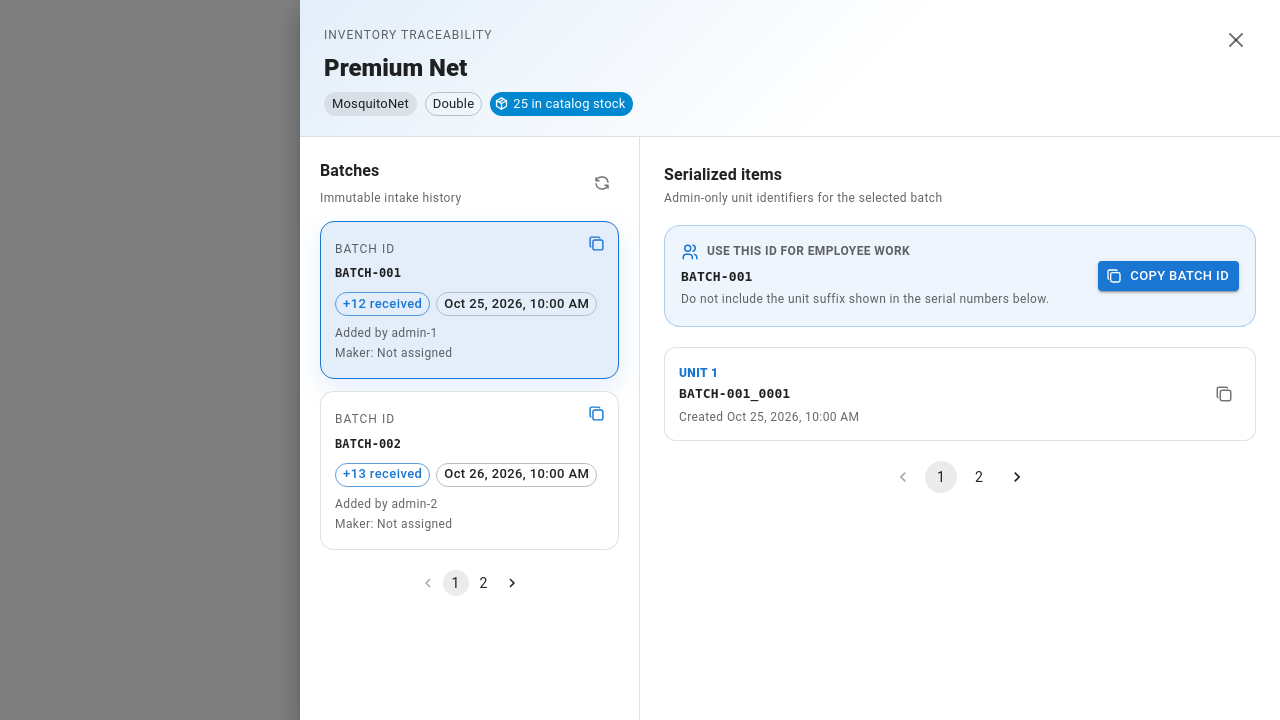
it: InventoryTraceability › announces clipboard permission failures without rejecting the action
Click the button named "Copy serial BATCH-001_0001" at x=1224, y=394, box [1207,377,1241,411]
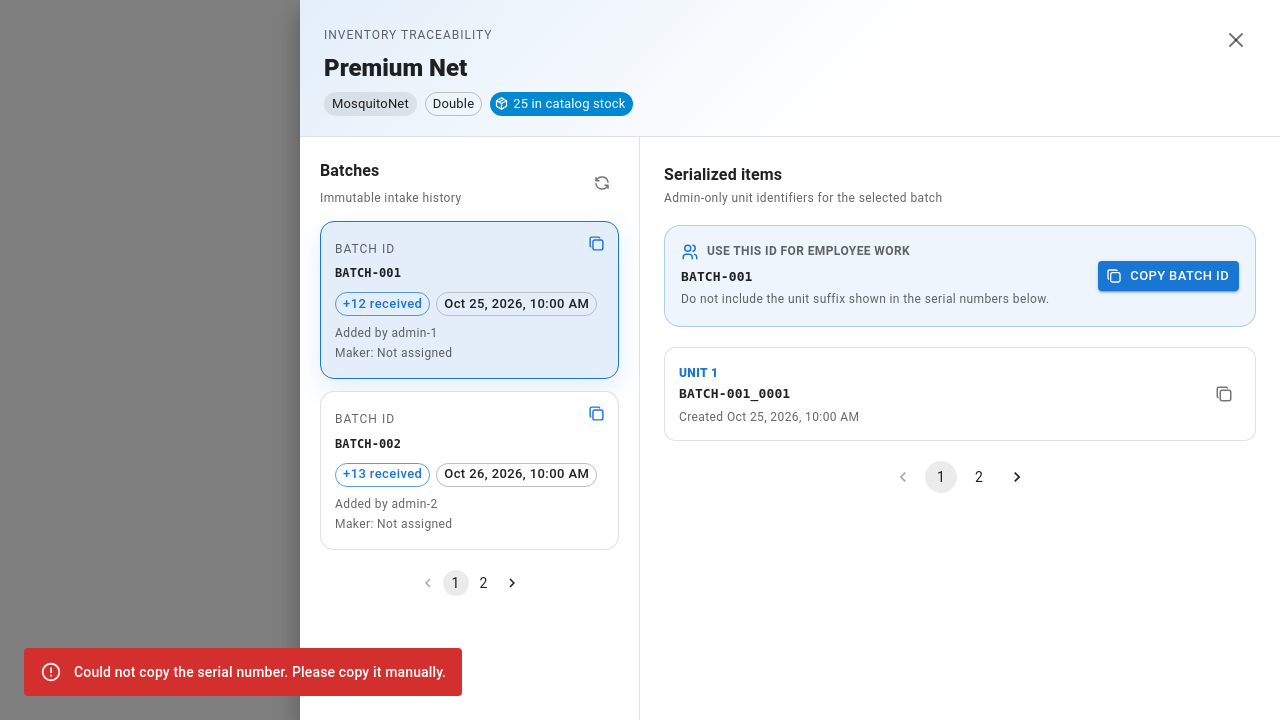
Expected: the text "Could not copy the serial number. Please copy it manually." is shown, [24,648,462,696]
